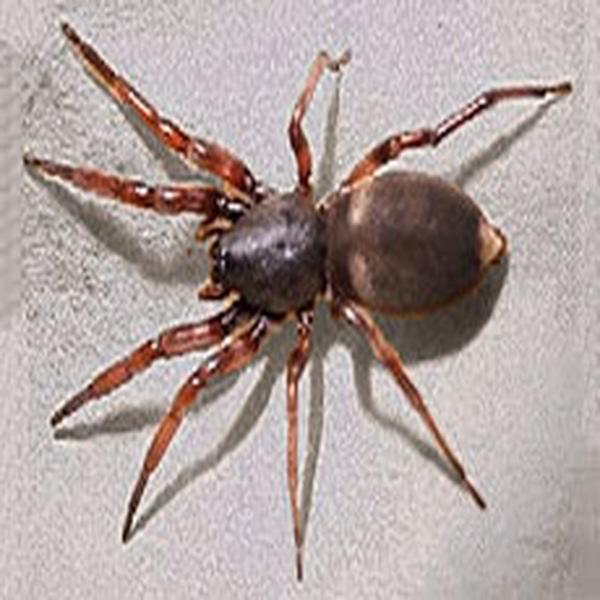White-Tailed Spider: (41, 39, 559, 546)
